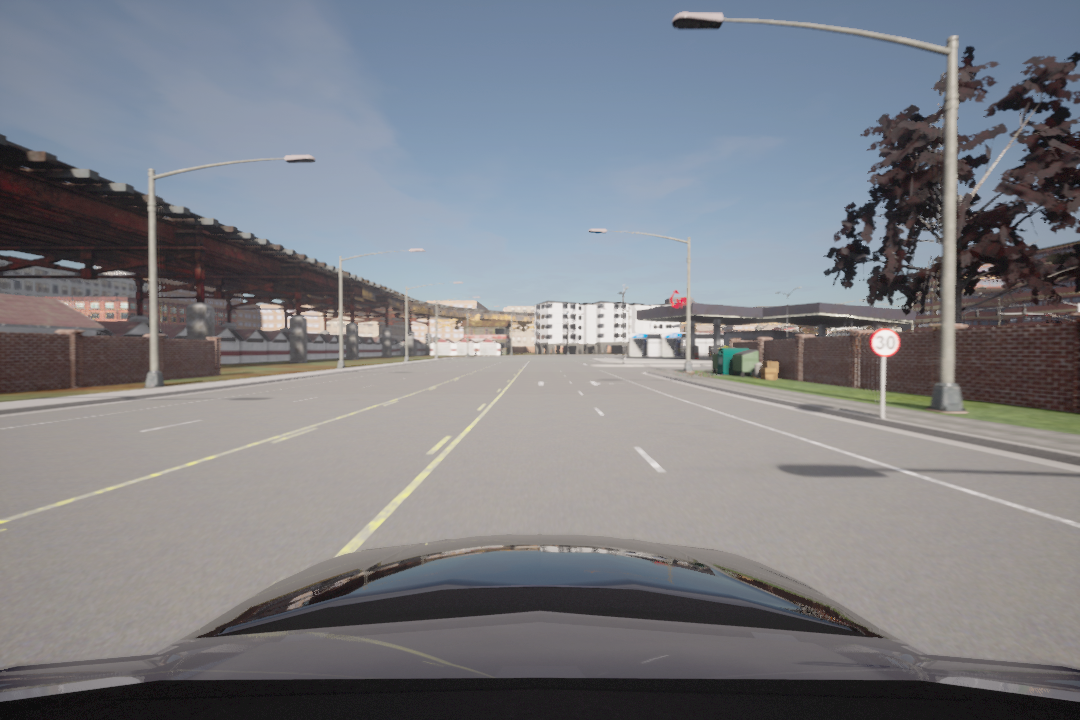TrafficSign_speed: (871, 328, 901, 358)
